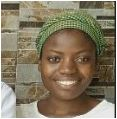without_facemask: (43, 67, 96, 101)
